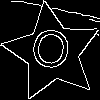O: (27, 27, 73, 79)
